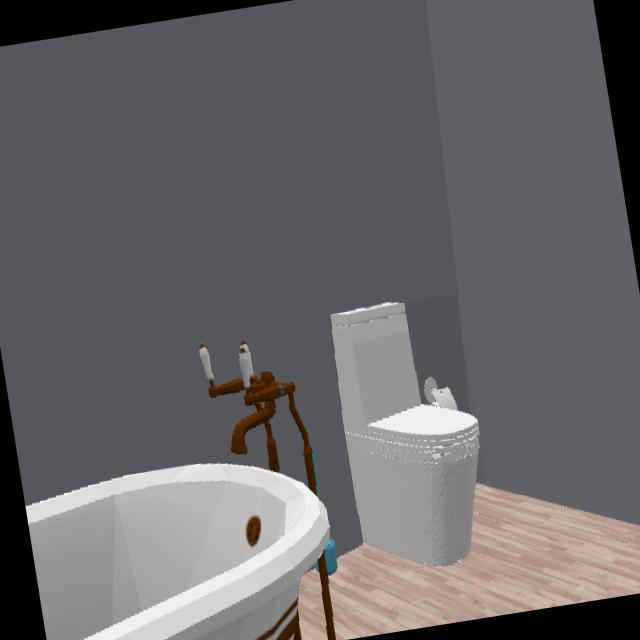bathtube: (26, 465, 329, 640)
toilet: (332, 303, 481, 563)
